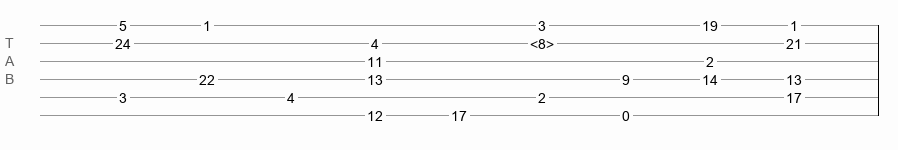0: (622, 108, 630, 118)
1: (203, 18, 211, 28), (790, 18, 798, 28)
11: (367, 54, 383, 64)
12: (367, 108, 383, 118)
13: (367, 72, 383, 82), (786, 72, 802, 82)
14: (702, 72, 718, 82)
17: (451, 108, 467, 118), (786, 90, 802, 100)
19: (702, 18, 718, 28)
2: (538, 90, 546, 100), (706, 54, 714, 64)
21: (786, 36, 802, 46)
22: (199, 72, 215, 82)
24: (115, 36, 131, 46)
3: (119, 90, 127, 100), (538, 18, 546, 28)
4: (287, 90, 295, 100), (371, 36, 379, 46)
5: (119, 18, 127, 28)
9: (622, 72, 630, 82)
harmonic: (530, 36, 554, 46)
